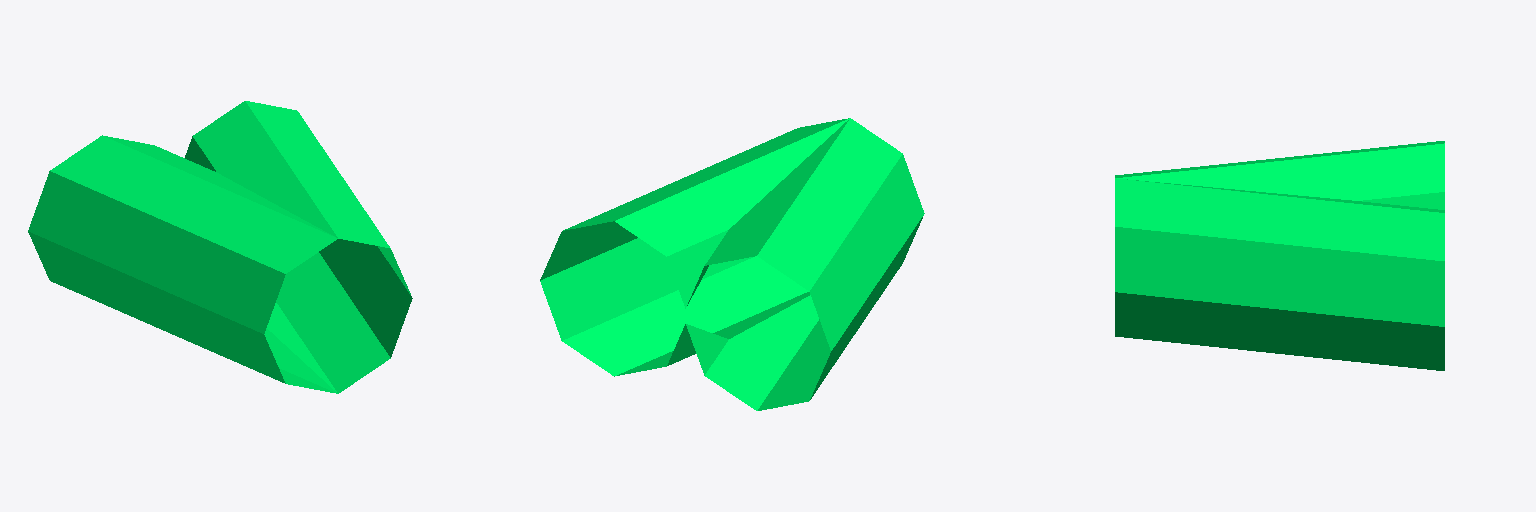
The model's file is CH-Corridor_Fork.obj.
3 renders of one model, left to right at view 1: azimuth 30°, elevation 25°; view 2: azimuth 150°, elevation 25°; view 3: azimuth 270°, elevation 25°, orthographic.
Parts seen in each view (by area): view 1: CH_Corridor_Fork; view 2: CH_Corridor_Fork; view 3: CH_Corridor_Fork.
Boxes of the visible parts, x1=… form: CH_Corridor_Fork: x1=28, y1=101, x2=412, y2=393; CH_Corridor_Fork: x1=540, y1=118, x2=924, y2=410; CH_Corridor_Fork: x1=1115, y1=141, x2=1444, y2=370.
Size of the model in its own units: 20.4 by 10.4 by 20.